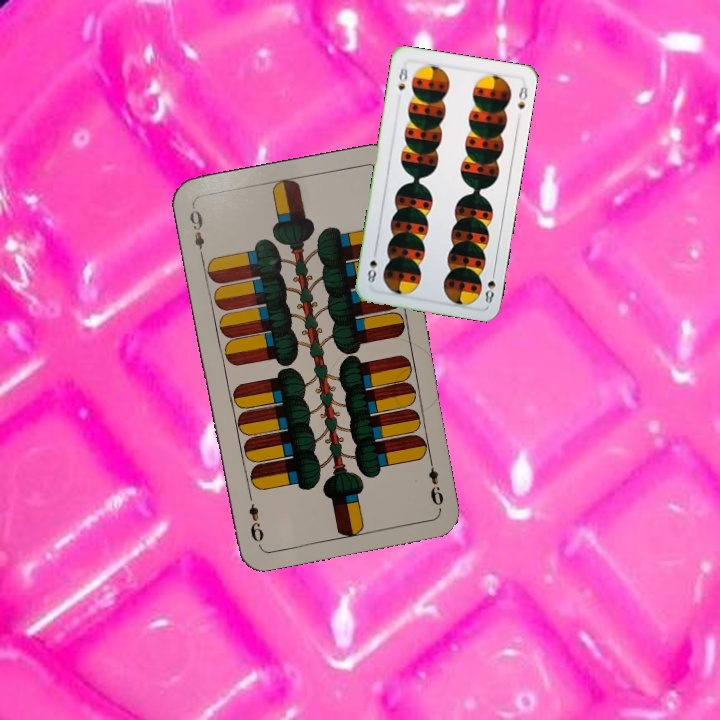E9: (185, 202, 207, 261), (424, 453, 447, 508)
S8: (481, 266, 498, 306), (394, 63, 410, 93)
